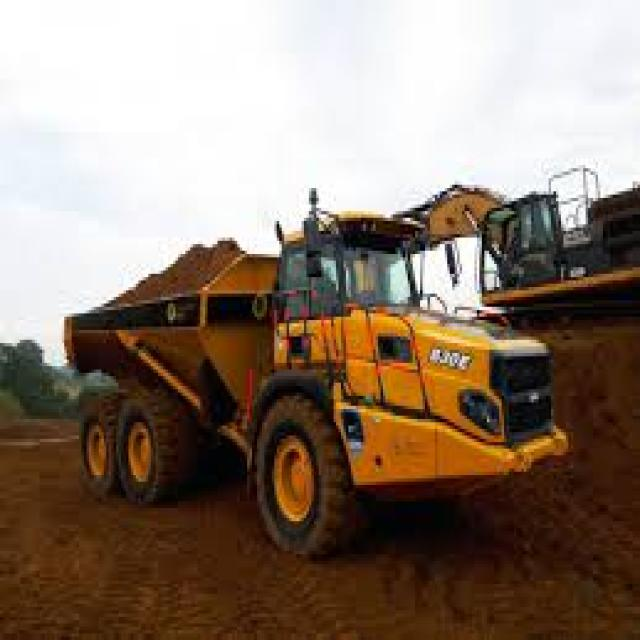dump_truck: (57, 201, 576, 548)
